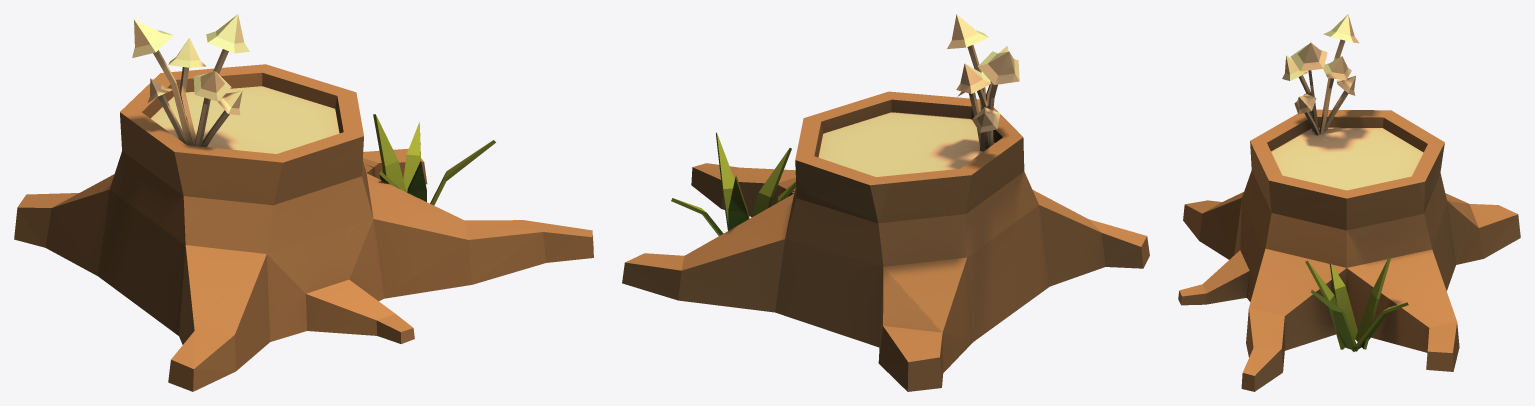
Rendered from Tree stump.glb.
3 renders of one model, left to right at view 1: azimuth 30°, elevation 25°; view 2: azimuth 150°, elevation 25°; view 3: azimuth 270°, elevation 25°, orthographic. The views are drawn at different scales.
Visible parts, largest first — view 1: tree_stump; view 2: tree_stump; view 3: tree_stump.
Part boxes in pixels (box(x1,y1,x2,y2)): tree_stump: box(14, 14, 593, 391); tree_stump: box(622, 14, 1149, 391); tree_stump: box(1178, 14, 1520, 391).
Bounding box in the file's own units: 1.7 × 1.04 × 1.41.
Materials: 1 (1 with a texture image).
